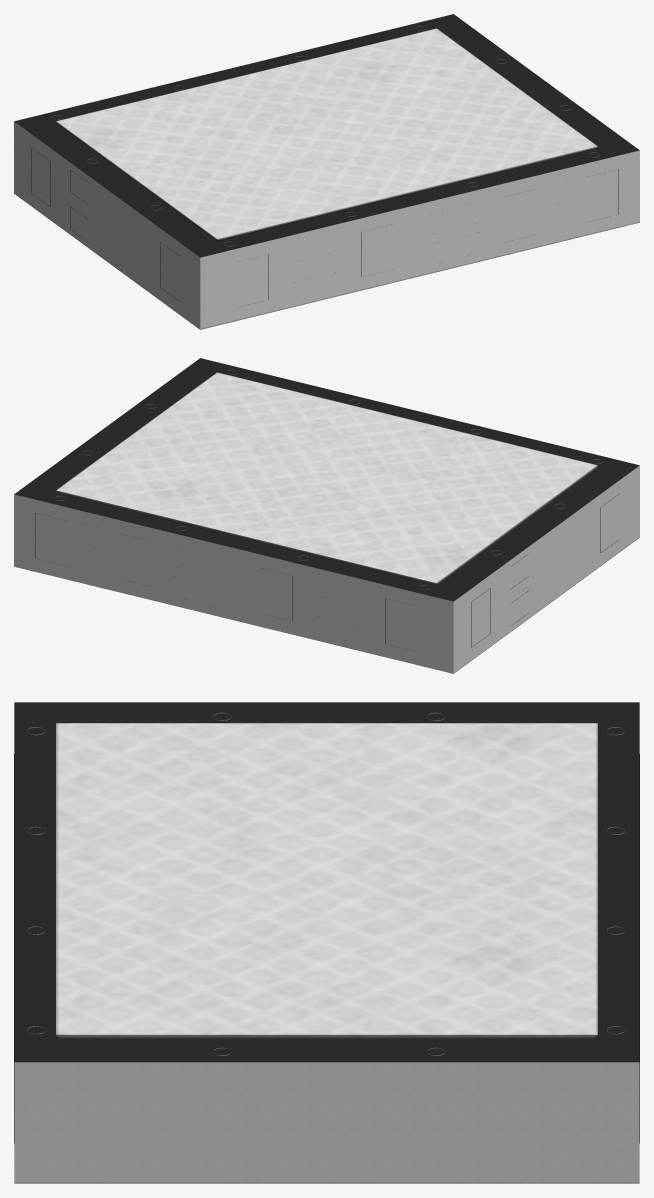
Rendered from exhibition_hall.glb.
3 renders of one model, top to bottom at view 1: azimuth 30°, elevation 25°; view 2: azimuth 150°, elevation 25°; view 3: azimuth 270°, elevation 25°, orthographic. The views are drawn at different scales.
Parts seen in each view (by area): view 1: Art_Room; view 2: Art_Room; view 3: Art_Room.
Boxes of the visible parts, left/top/right/bottom form: Art_Room: left=14, top=14, right=639, bottom=329; Art_Room: left=14, top=358, right=639, bottom=673; Art_Room: left=14, top=702, right=639, bottom=1183.
Bounding box in the file's own units: 27.64 × 4.46 × 20.29.
1 material, 1 textured.
